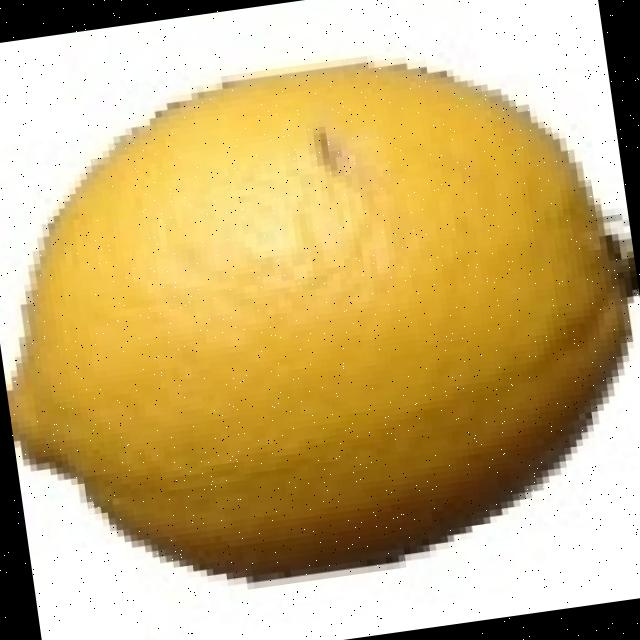lemon: (7, 65, 638, 579)
